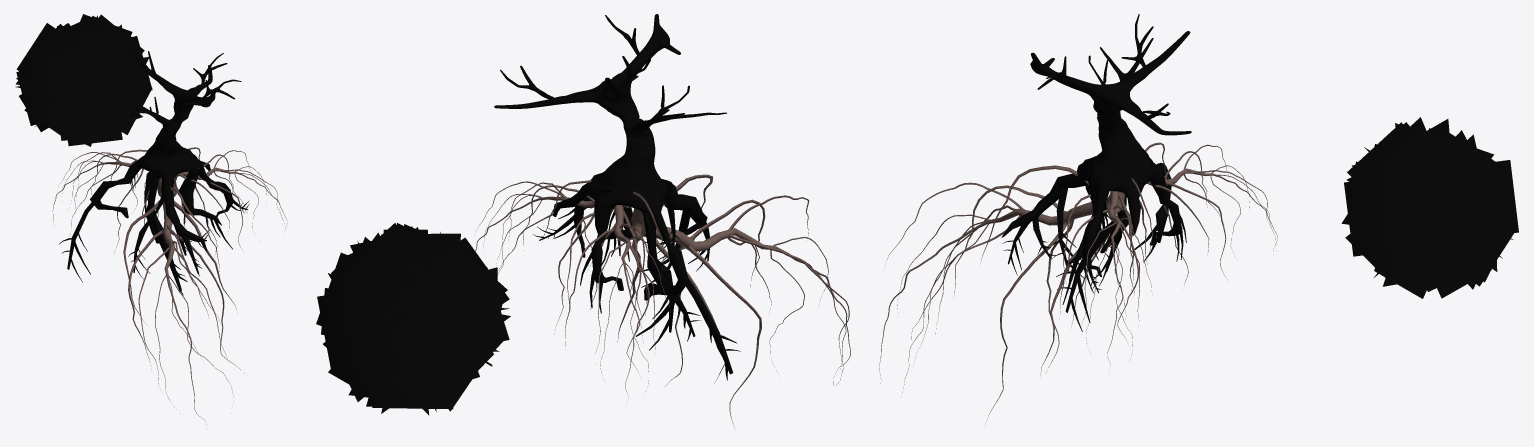
The model's file is testing the leaves.fbx.
3 renders of one model, left to right at view 1: azimuth 30°, elevation 25°; view 2: azimuth 150°, elevation 25°; view 3: azimuth 270°, elevation 25°, orthographic. The views are drawn at different scales.
Visible parts, largest first — view 1: Cube.026; view 2: Cube.026; view 3: Cube.026.
Boxes of the visible parts, x1=… form: Cube.026: x1=15, y1=14, x2=287, y2=424; Cube.026: x1=316, y1=14, x2=850, y2=427; Cube.026: x1=879, y1=14, x2=1518, y2=426.
Size of the model in its own units: 1158 by 1601 by 2354.
Materials: 2 (1 with a texture image).
